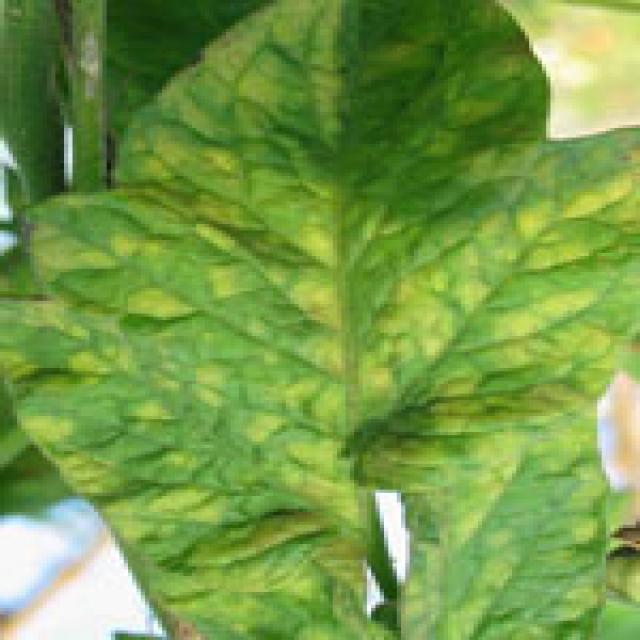Mosaic Virus: (2, 0, 628, 508)
